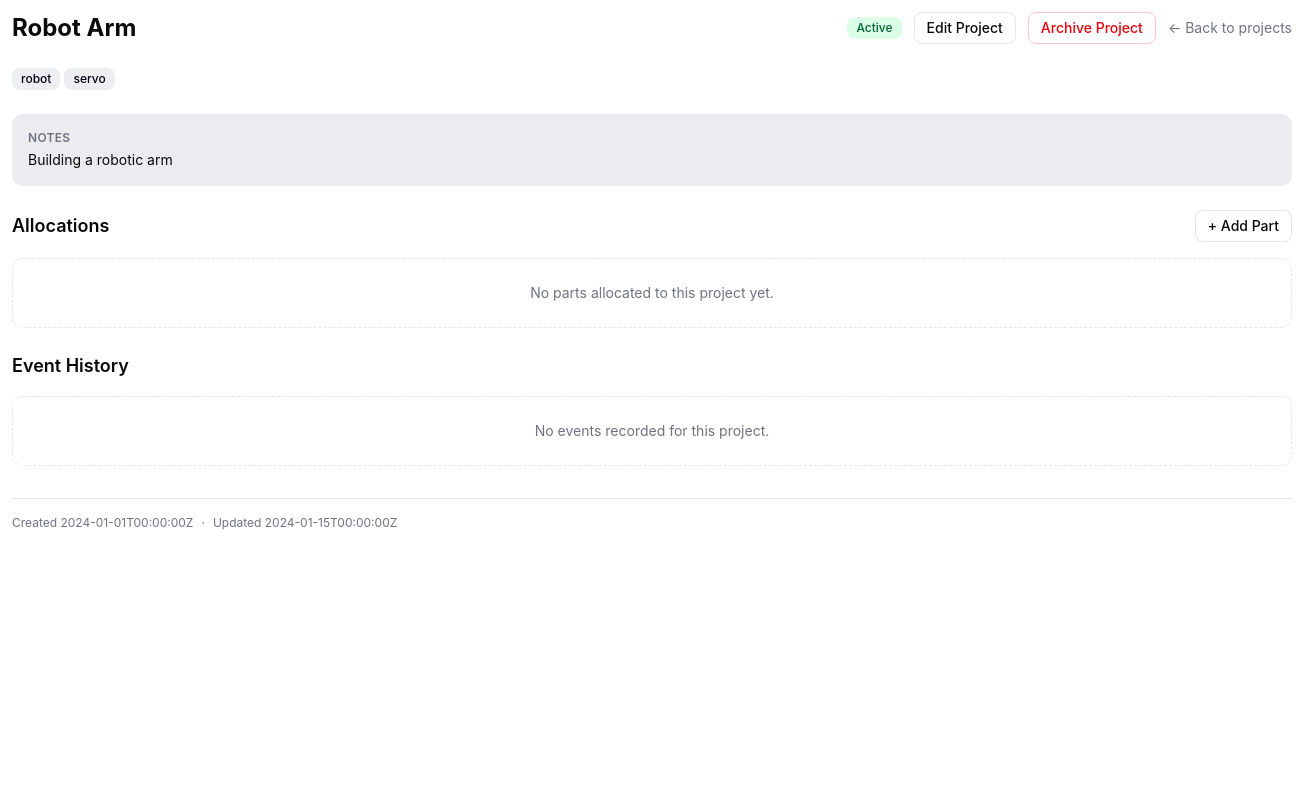
Scenario: ProjectDetailClient — archive behaviour › shows archive error message when DELETE fails
expect the heading "Robot Arm" is shown: met, box [12, 12, 136, 44]
Click the button "Archive Project" at (1092, 28), box [1028, 12, 1156, 44]
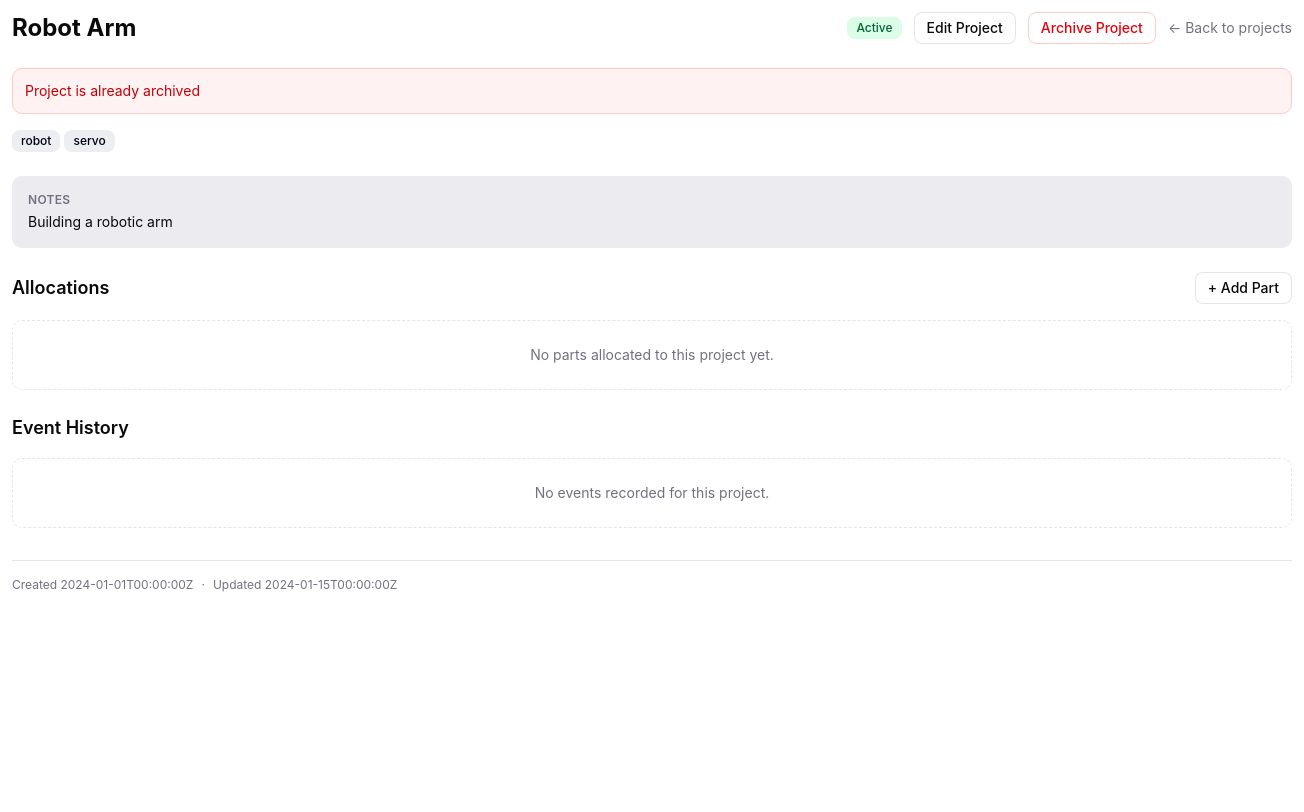
expect the text "Project is already archived" is shown: met, box [12, 68, 1292, 114]
